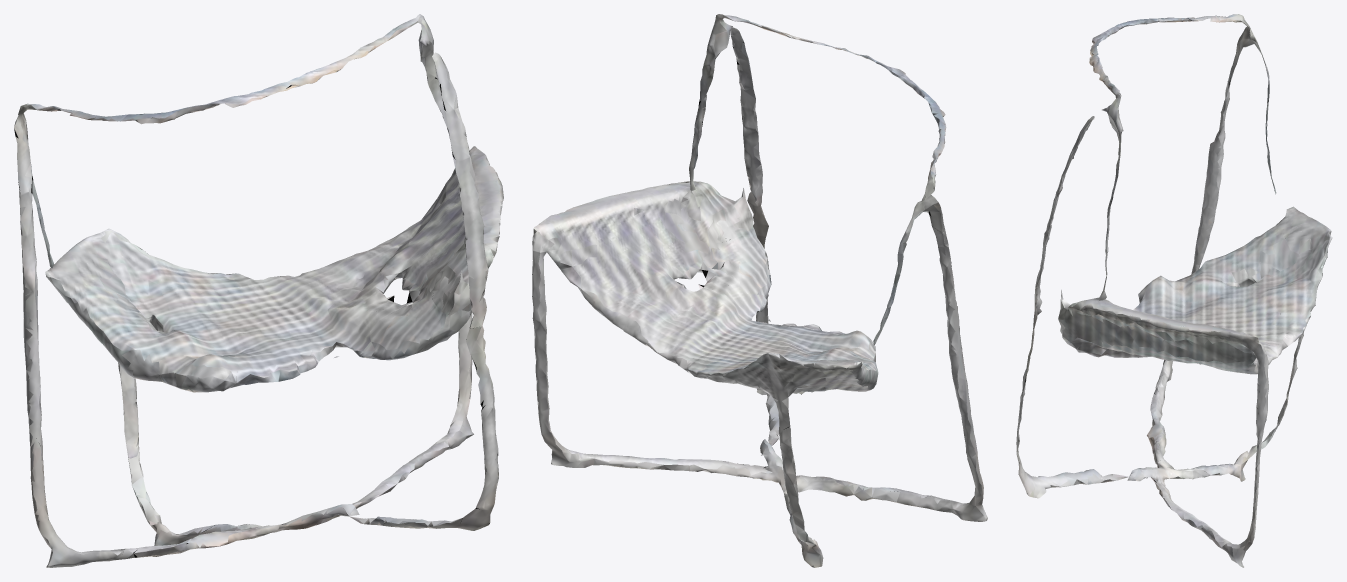
The model's file is table.glb.
3 views of the same model, side by side, from view 1: azimuth 30°, elevation 25°; view 2: azimuth 150°, elevation 25°; view 3: azimuth 270°, elevation 25° (orthographic). The views are drawn at different scales.
Parts seen in each view (by area): view 1: world; view 2: world; view 3: world.
Boxes of the visible parts, bbox=[...] form: world: bbox=[14, 14, 503, 567]; world: bbox=[532, 14, 987, 567]; world: bbox=[1016, 14, 1332, 567].
Bounding box in the file's own units: 0.8382 × 0.9127 × 0.5667.
Materials: 1 (1 with a texture image).
